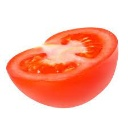tomato: (6, 27, 118, 108)
